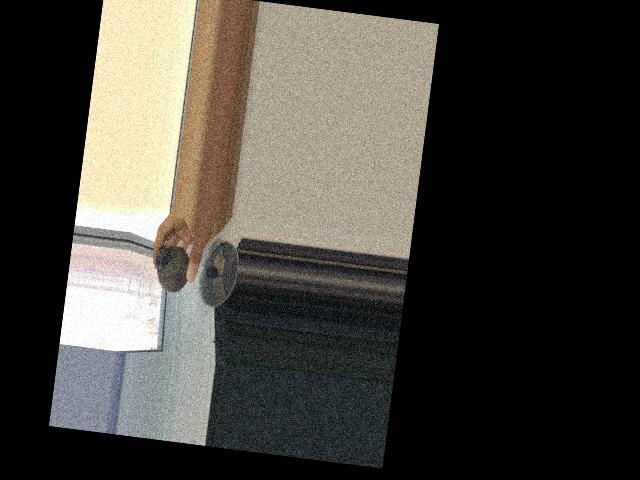beet: (151, 230, 193, 294)
